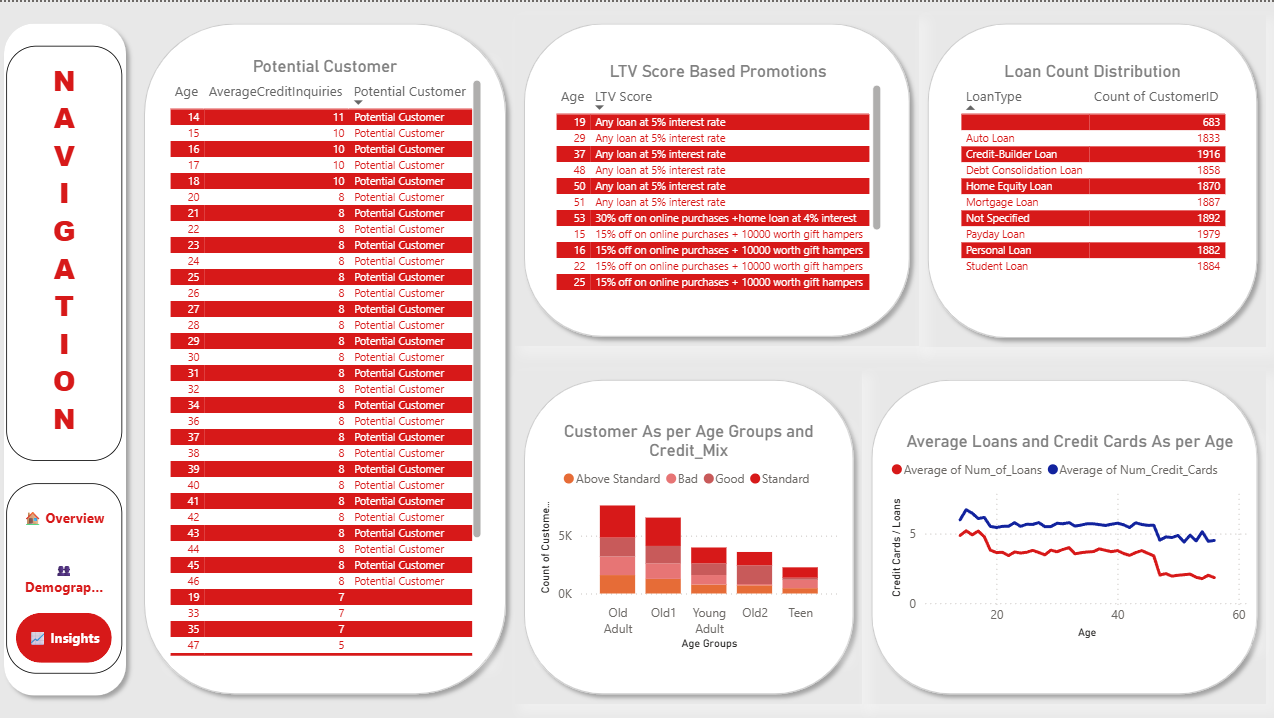

The page's visual inventory and layout, read from the dashboard file:
{"tool":"powerbi","page":{"name":"📈 Insights","canvas":[1280,720],"ordinal":2},"visuals":[{"type":"shape","box":[0,12.5,140,690],"z":0},{"type":"shape","box":[520,12.5,403.8,331.2],"z":1000},{"type":"shape","box":[140,12.5,380,688.8],"z":2000},{"type":"tableEx","title":"Potential Customer","fields":{"Values":["combined_df.Age","Table.AverageCreditInquiries","Table.Potential Customer"]},"box":[168.8,53.8,322.5,605],"z":3000},{"type":"tableEx","title":"LTV Score Based Promotions","fields":{"Values":["combined_df.Age","Table.LTV Score"]},"box":[555,58.8,336.2,237.5],"z":4000},{"type":"shape","box":[923.8,12.5,347.5,332.5],"z":5000},{"type":"tableEx","title":"Loan Count Distribution","fields":{"Values":["LoanTypeTable.LoanType","LoanTypeTable.CustomerID"]},"box":[960,58.8,275,237.5],"z":6000},{"type":"shape","box":[520,368.8,347.5,332.5],"z":7000},{"type":"columnChart","title":"Customer As per Age Groups and Credit_Mix","fields":{"Category":["combined_df.Age Groups"],"Series":["combined_df.Credit_Mix"],"Y":["CountNonNull(combined_df.Customer_ID)"]},"box":[540,418.8,307.5,233.8],"z":8000},{"type":"shape","box":[867.5,368.8,403.8,332.5],"z":9000},{"type":"lineChart","title":"Average Loans and Credit Cards As per Age","fields":{"Category":["combined_df.Age"],"Y":["Avg(combined_df.Num_of_Loans)","Avg(combined_df.Num_Credit_Cards)"]},"box":[891.2,428.8,367.5,212.5],"z":10000},{"type":"pageNavigator","box":[11.2,481.2,116.2,190],"z":11000},{"type":"textbox","box":[11.2,43.8,116.2,415],"z":12000}]}

Visuals, with their boxes in screenshot pixels (x1, y1, x2, y2), scaled from the page's 1280x720 canvas onto the 1274x718 screenshot:
shape: [left=0, top=12, right=139, bottom=701]
shape: [left=518, top=12, right=919, bottom=343]
shape: [left=139, top=12, right=518, bottom=699]
"Potential Customer" tableEx: [left=168, top=54, right=489, bottom=657]
"LTV Score Based Promotions" tableEx: [left=552, top=59, right=887, bottom=295]
shape: [left=919, top=12, right=1265, bottom=344]
"Loan Count Distribution" tableEx: [left=956, top=59, right=1229, bottom=295]
shape: [left=518, top=368, right=863, bottom=699]
"Customer As per Age Groups and Credit_Mix" columnChart: [left=537, top=418, right=844, bottom=651]
shape: [left=863, top=368, right=1265, bottom=699]
"Average Loans and Credit Cards As per Age" lineChart: [left=887, top=428, right=1253, bottom=640]
pageNavigator: [left=11, top=480, right=127, bottom=669]
textbox: [left=11, top=44, right=127, bottom=458]
